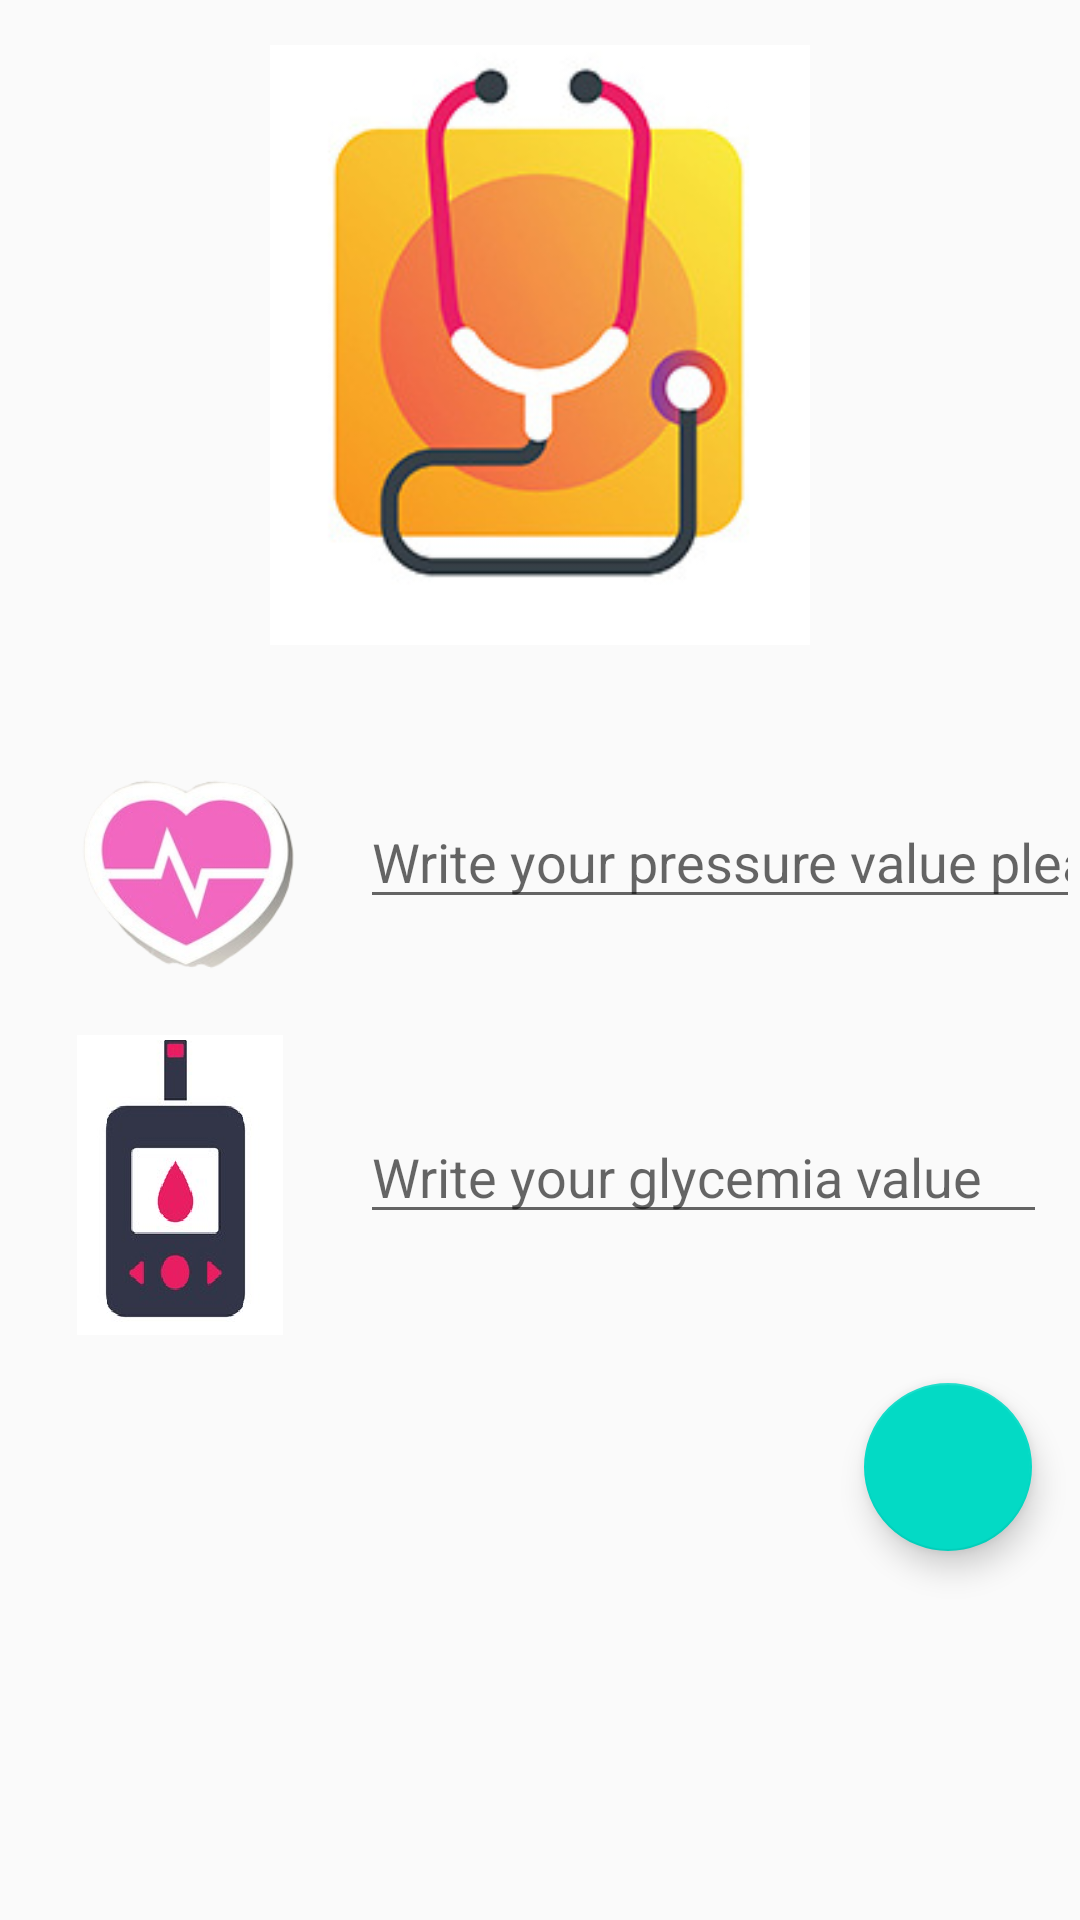

Where icons sit on this 1080px x 1920px app screen, as BBox(x1, y1, x2, y2):
heart: BBox(101, 782, 293, 967)
